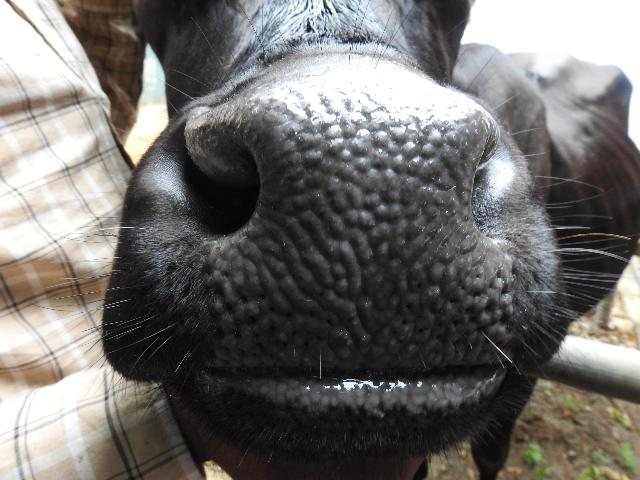Muzzle: (261, 85, 469, 357)
